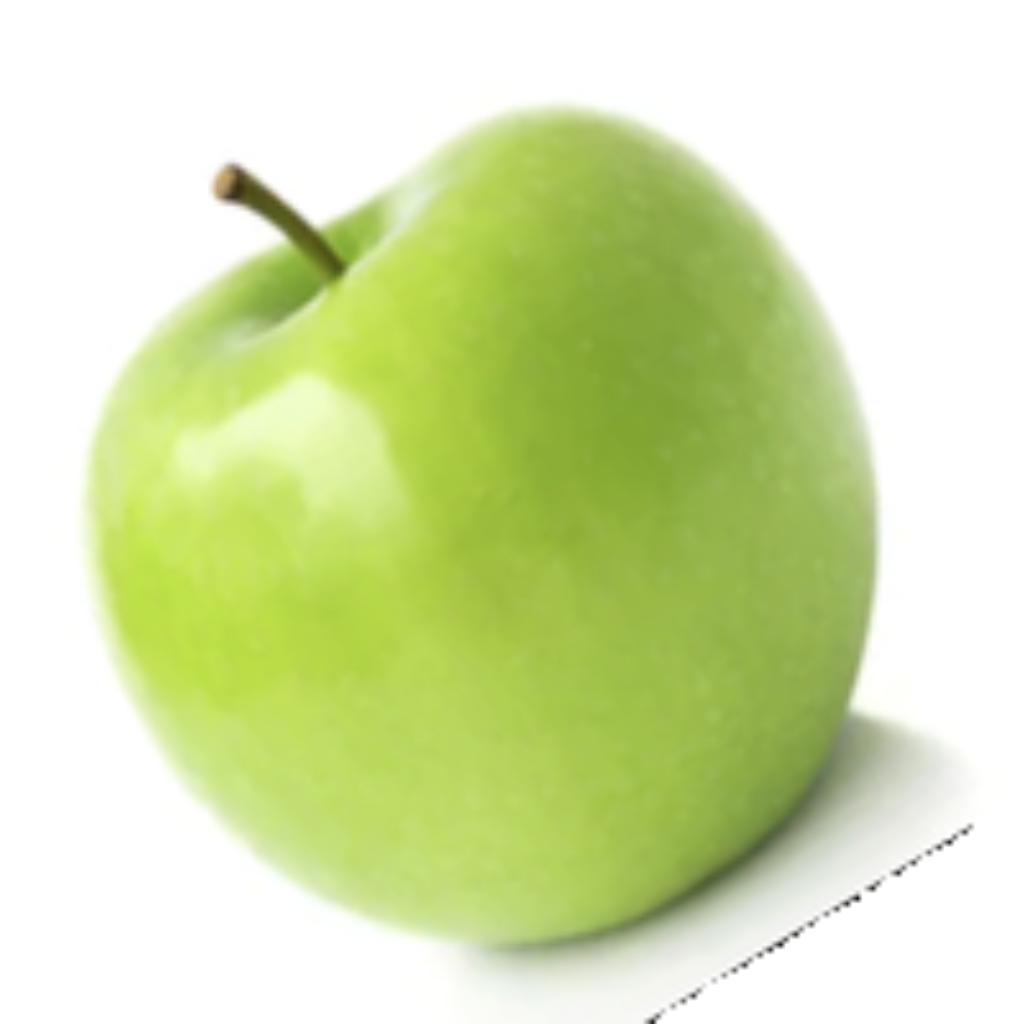apple: (72, 93, 973, 1019)
